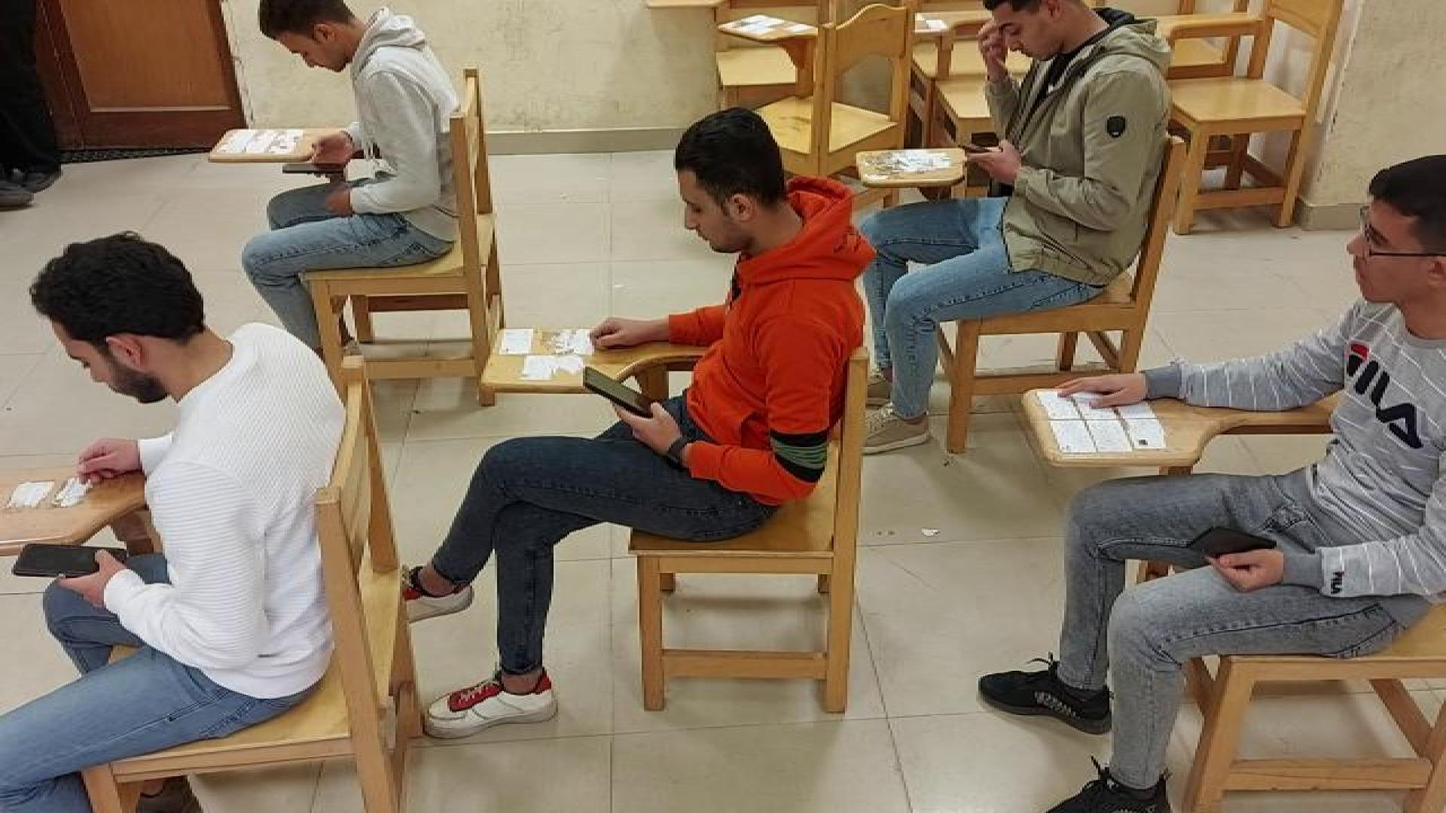phone: (951, 123, 1037, 189), (14, 541, 124, 582), (580, 366, 665, 410), (1187, 521, 1278, 560), (280, 161, 346, 174)
